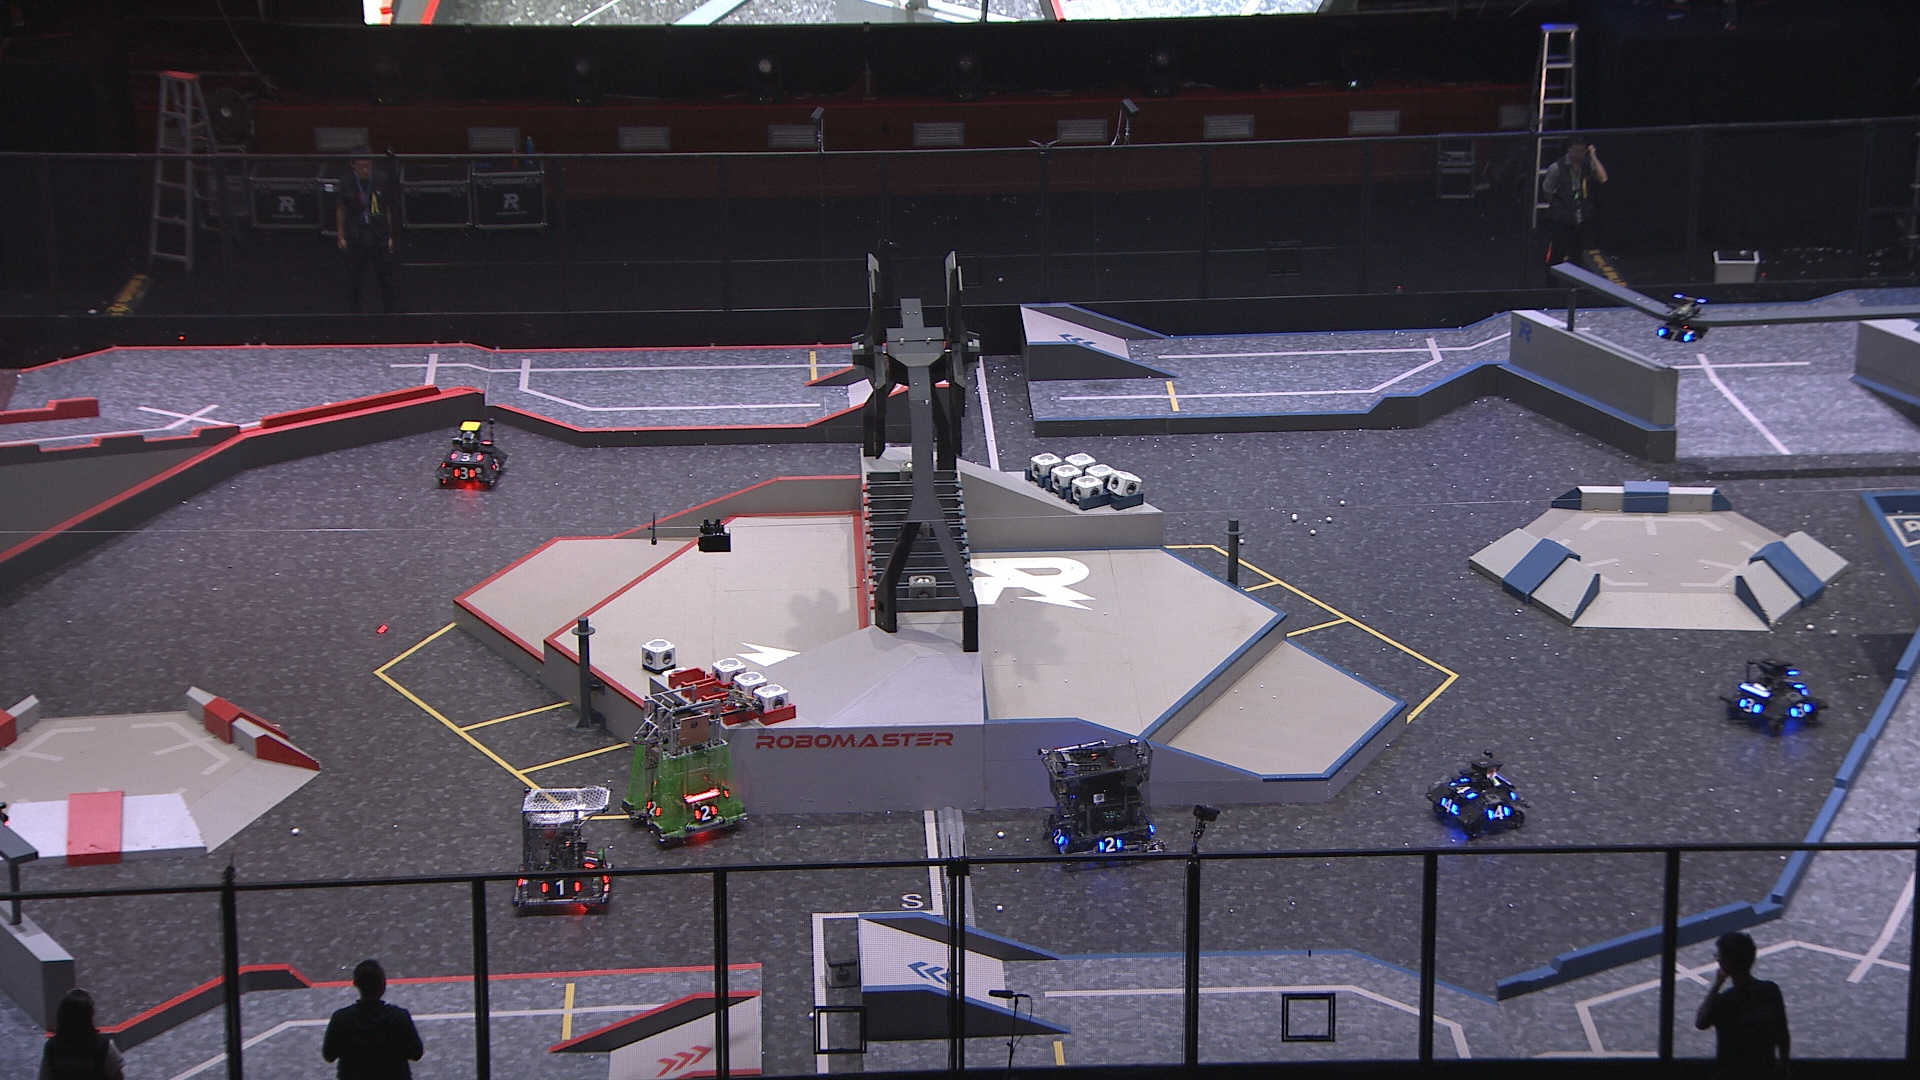armor: (1658, 324, 1695, 344), (541, 880, 583, 897), (1737, 694, 1762, 717), (1449, 782, 1477, 802), (1096, 836, 1124, 855), (1788, 700, 1812, 721), (1437, 796, 1460, 818), (1487, 803, 1513, 822), (447, 451, 485, 463), (694, 803, 717, 822), (582, 849, 603, 869), (646, 799, 665, 818), (454, 467, 476, 481), (1050, 828, 1067, 847), (491, 456, 502, 473)
car: (622, 683, 749, 845), (1039, 733, 1168, 873), (512, 785, 617, 913), (1422, 745, 1528, 836), (1716, 655, 1830, 733), (436, 415, 509, 489)
watcher: (1656, 295, 1713, 348)
